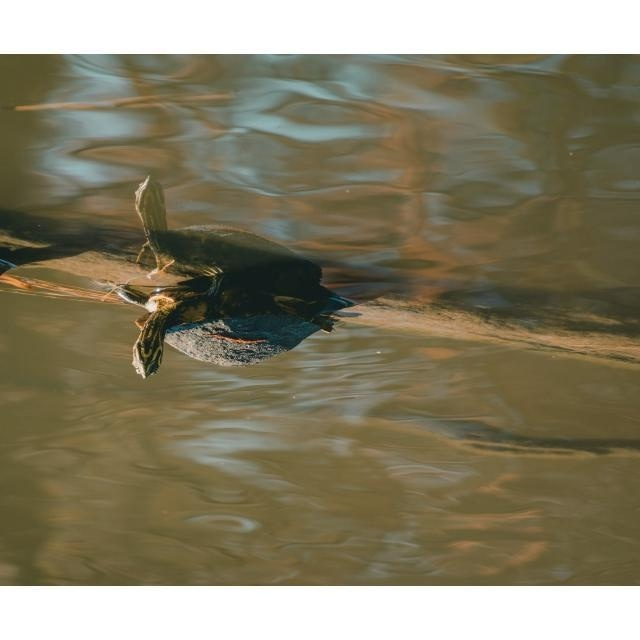turtle: (117, 262, 338, 381)
